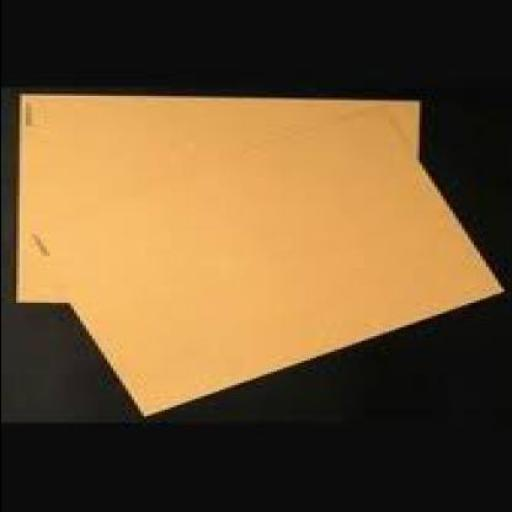cardboard: (21, 114, 500, 414), (12, 91, 415, 300)
